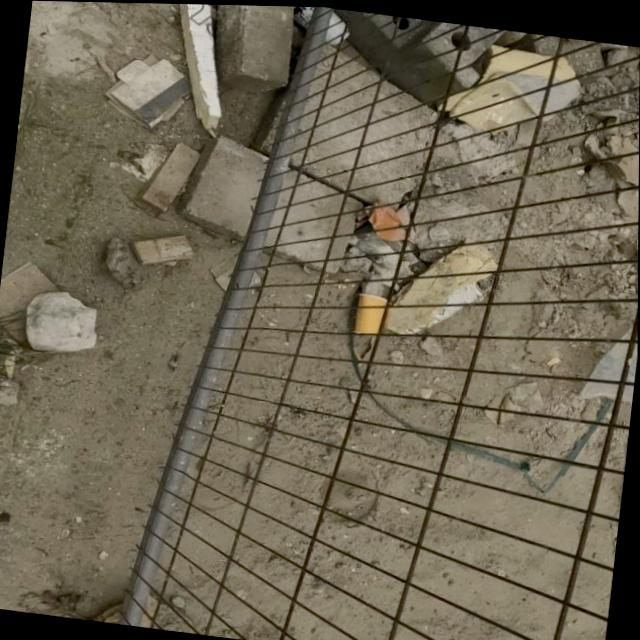Cup: (354, 289, 388, 333)
